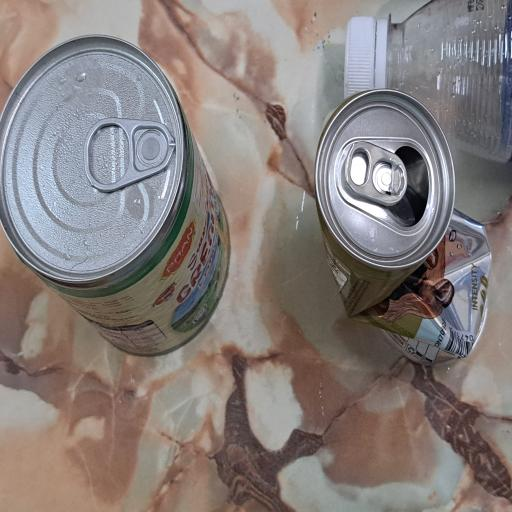can: (119, 0, 359, 309), (109, 419, 314, 512)
plastic bottle cap: (310, 456, 373, 512)
pop tab: (241, 114, 297, 234), (231, 458, 277, 512)
